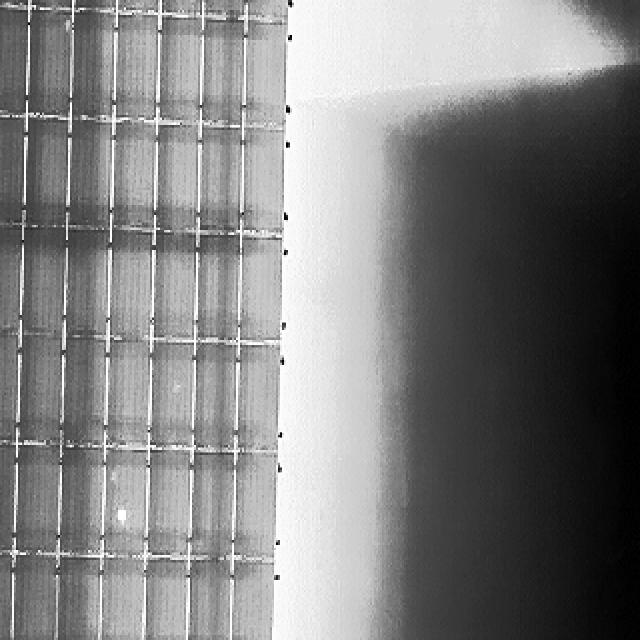Hotspots: (114, 499, 134, 534)
PV-modules: (20, 333, 73, 444), (229, 451, 278, 561), (69, 13, 117, 123), (154, 339, 201, 449), (191, 339, 238, 449), (62, 224, 109, 334), (197, 128, 244, 237), (66, 121, 112, 232), (110, 17, 157, 125), (108, 232, 154, 342), (188, 450, 234, 560), (24, 118, 70, 228), (195, 229, 240, 341), (17, 444, 62, 555), (21, 229, 67, 337), (150, 231, 195, 341), (111, 124, 156, 234), (57, 447, 102, 556), (61, 336, 105, 447), (156, 126, 200, 236), (106, 339, 151, 446), (239, 343, 283, 452), (242, 128, 286, 237), (241, 234, 284, 345), (200, 20, 245, 126), (104, 449, 148, 556), (31, 11, 74, 120), (160, 19, 203, 126), (246, 20, 289, 127), (146, 450, 189, 556), (97, 560, 143, 640), (232, 560, 278, 640), (14, 557, 58, 640), (187, 561, 233, 640), (58, 559, 101, 640), (142, 561, 186, 640), (0, 10, 26, 118), (0, 115, 24, 223), (0, 225, 20, 333), (0, 330, 16, 440), (0, 442, 16, 552), (248, 0, 292, 20), (202, 0, 246, 18), (160, 0, 206, 15), (0, 555, 8, 640), (114, 0, 160, 12), (70, 0, 114, 10), (32, 0, 76, 8), (0, 0, 32, 5)
